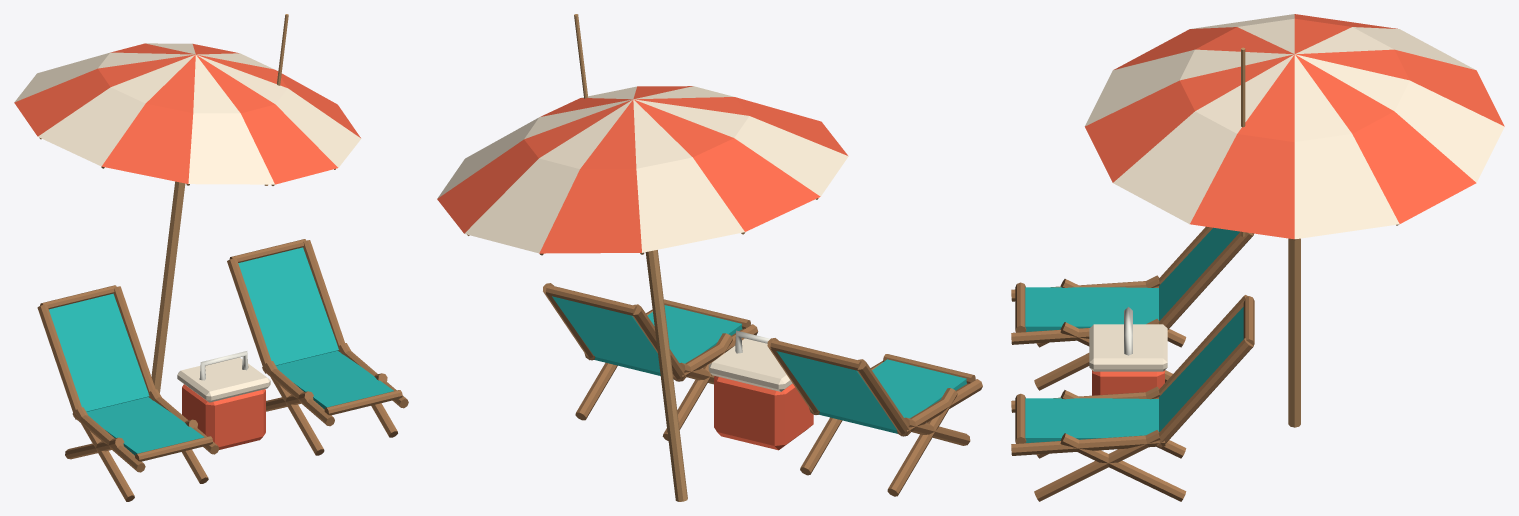
File: beach-set.glb
3 renders of one model, left to right at view 1: azimuth 30°, elevation 25°; view 2: azimuth 150°, elevation 25°; view 3: azimuth 270°, elevation 25°, orthographic. The views are drawn at different scales.
Parts seen in each view (by area): view 1: Teal reclined back fabric.001, Teal reclined back fabric, Striped umbrella panel.007, Striped umbrella panel.008, Striped umbrella panel.006, Striped umbrella panel.009, Striped umbrella panel.005, Teal lounge seat fabric, Teal lounge seat fabric.001, Small cooler between chairs, Striped umbrella panel.010, Cream cooler lid (+20 smaller); view 2: Striped umbrella panel.004, Striped umbrella panel.003, Striped umbrella panel.005, Striped umbrella panel.002, Striped umbrella panel.006, Small cooler between chairs, Striped umbrella panel.001, Teal reclined back fabric, Teal reclined back fabric.001, Teal lounge seat fabric, Umbrella pole, Striped umbrella panel.007 (+17 smaller); view 3: Striped umbrella panel, Striped umbrella panel.011, Striped umbrella panel.001, Striped umbrella panel.010, Striped umbrella panel.002, Striped umbrella panel.009, Teal lounge seat fabric.001, Teal lounge seat fabric, Striped umbrella panel.003, Striped umbrella panel.008, Cream cooler lid, Teal reclined back fabric.001 (+17 smaller).
Part boxes in pixels (x1=…): Teal reclined back fabric.001: x1=238, y1=247, x2=338, y2=365; Teal reclined back fabric: x1=49, y1=293, x2=149, y2=411; Striped umbrella panel.007: x1=101, y1=55, x2=195, y2=183; Striped umbrella panel.008: x1=188, y1=55, x2=274, y2=184; Striped umbrella panel.006: x1=38, y1=54, x2=195, y2=166; Striped umbrella panel.009: x1=196, y1=55, x2=337, y2=184; Striped umbrella panel.005: x1=14, y1=54, x2=194, y2=136; Teal lounge seat fabric: x1=86, y1=397, x2=204, y2=455; Teal lounge seat fabric.001: x1=276, y1=351, x2=393, y2=409; Small cooler between chairs: x1=182, y1=384, x2=265, y2=449; Striped umbrella panel.010: x1=197, y1=55, x2=360, y2=167; Cream cooler lid: x1=177, y1=357, x2=270, y2=402; Striped umbrella panel.004: x1=633, y1=99, x2=744, y2=252; Striped umbrella panel.003: x1=539, y1=100, x2=641, y2=253; Striped umbrella panel.005: x1=634, y1=99, x2=820, y2=231; Striped umbrella panel.002: x1=464, y1=100, x2=632, y2=253; Striped umbrella panel.006: x1=634, y1=99, x2=848, y2=196; Small cooler between chairs: x1=714, y1=376, x2=813, y2=450; Striped umbrella panel.001: x1=437, y1=99, x2=632, y2=233; Teal reclined back fabric: x1=776, y1=351, x2=896, y2=430; Teal reclined back fabric.001: x1=552, y1=296, x2=660, y2=372; Teal lounge seat fabric: x1=819, y1=359, x2=966, y2=433; Umbrella pole: x1=645, y1=250, x2=687, y2=501; Striped umbrella panel.007: x1=635, y1=97, x2=847, y2=155; Striped umbrella panel: x1=1294, y1=54, x2=1399, y2=239; Striped umbrella panel.011: x1=1190, y1=55, x2=1294, y2=239; Striped umbrella panel.001: x1=1295, y1=54, x2=1476, y2=223; Striped umbrella panel.010: x1=1113, y1=54, x2=1294, y2=223; Striped umbrella panel.002: x1=1295, y1=54, x2=1504, y2=182; Striped umbrella panel.009: x1=1085, y1=54, x2=1293, y2=182; Teal lounge seat fabric.001: x1=1025, y1=398, x2=1158, y2=442; Teal lounge seat fabric: x1=1025, y1=287, x2=1158, y2=331; Striped umbrella panel.003: x1=1296, y1=49, x2=1504, y2=126; Striped umbrella panel.008: x1=1085, y1=49, x2=1293, y2=126; Cream cooler lid: x1=1089, y1=324, x2=1167, y2=371; Teal reclined back fabric.001: x1=1159, y1=307, x2=1243, y2=431.
Bounding box in the file's own units: 2.43 × 2.67 × 2.7.
